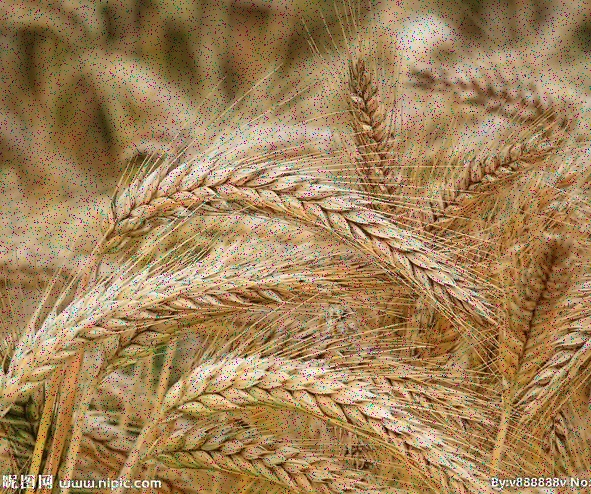wheat: (4, 250, 370, 398), (90, 166, 482, 304), (152, 356, 476, 490)
